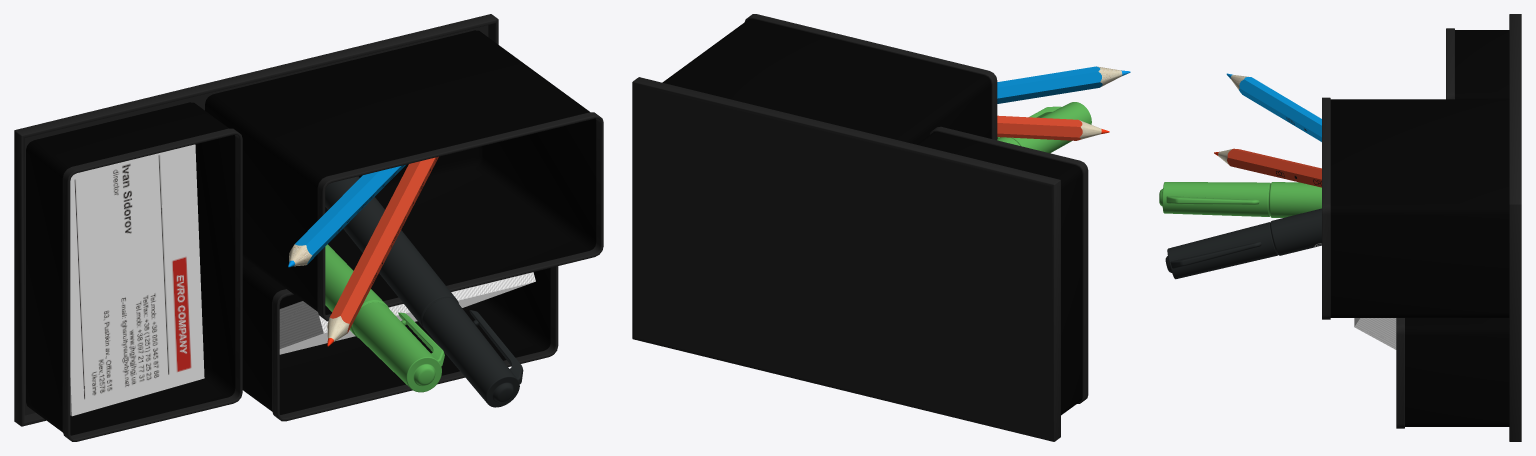
Rendered from Table_Set_obj.obj.
3 views of the same model, side by side, from view 1: azimuth 30°, elevation 25°; view 2: azimuth 150°, elevation 25°; view 3: azimuth 270°, elevation 25° (orthographic). The views are drawn at different scales.
Parts seen in each view (by area): view 1: Stay_Box3, Stay_visit5, Stay_Box2, Stay_Box1, Stay, Stay_Box_top2, Stay_Box_top3, MarkerPermanent_black_cap, MarkerPermanent_black, Pencil_red, MarkerPermanent_green_cap01, Stay_paper (+5 smaller); view 2: Stay, Stay_Box3, Stay_Box2, Pencil_blue, Stay_Box_top2, Pencil_red, Stay_Box_top3, MarkerPermanent_green_cap01; view 3: Stay_Box3, Stay_Box1, Stay, Stay_Box2, MarkerPermanent_green_cap01, MarkerPermanent_black_cap, Pencil_blue, Stay_Box_top3, Pencil_red, MarkerPermanent_black, MarkerPermanent_green, Stay_Box_top1 (+4 smaller).
Boxes of the visible parts, x1,y1,x2,y2 form: Stay_Box3: [205, 30, 596, 314]; Stay_visit5: [70, 144, 204, 416]; Stay_Box2: [26, 102, 235, 435]; Stay_Box1: [242, 257, 550, 414]; Stay: [14, 14, 498, 426]; Stay_Box_top2: [62, 128, 242, 441]; Stay_Box_top3: [317, 112, 603, 321]; MarkerPermanent_black_cap: [422, 298, 519, 407]; MarkerPermanent_black: [325, 176, 458, 328]; Pencil_red: [327, 156, 438, 346]; MarkerPermanent_green_cap01: [352, 302, 441, 392]; Stay_paper: [279, 272, 535, 354]; Stay: [632, 77, 1060, 441]; Stay_Box3: [662, 19, 991, 144]; Stay_Box2: [917, 131, 1082, 415]; Pencil_blue: [997, 66, 1130, 103]; Stay_Box_top2: [929, 126, 1088, 403]; Pencil_red: [997, 115, 1109, 140]; Stay_Box_top3: [745, 14, 997, 140]; MarkerPermanent_green_cap01: [1011, 102, 1091, 153]; Stay_Box3: [1330, 99, 1509, 317]; Stay_Box1: [1405, 318, 1509, 426]; Stay: [1509, 14, 1521, 441]; Stay_Box2: [1455, 30, 1509, 99]; MarkerPermanent_green_cap01: [1159, 182, 1270, 216]; MarkerPermanent_black_cap: [1165, 222, 1278, 279]; Pencil_blue: [1226, 73, 1321, 141]; Stay_Box_top3: [1322, 97, 1330, 319]; Pencil_red: [1214, 148, 1321, 187]; MarkerPermanent_black: [1270, 208, 1321, 255]; MarkerPermanent_green: [1268, 182, 1321, 217]; Stay_Box_top1: [1396, 318, 1404, 428].
Bounding box in the file's own units: 180 × 105 × 145.
Materials: 14 (7 with a texture image).
